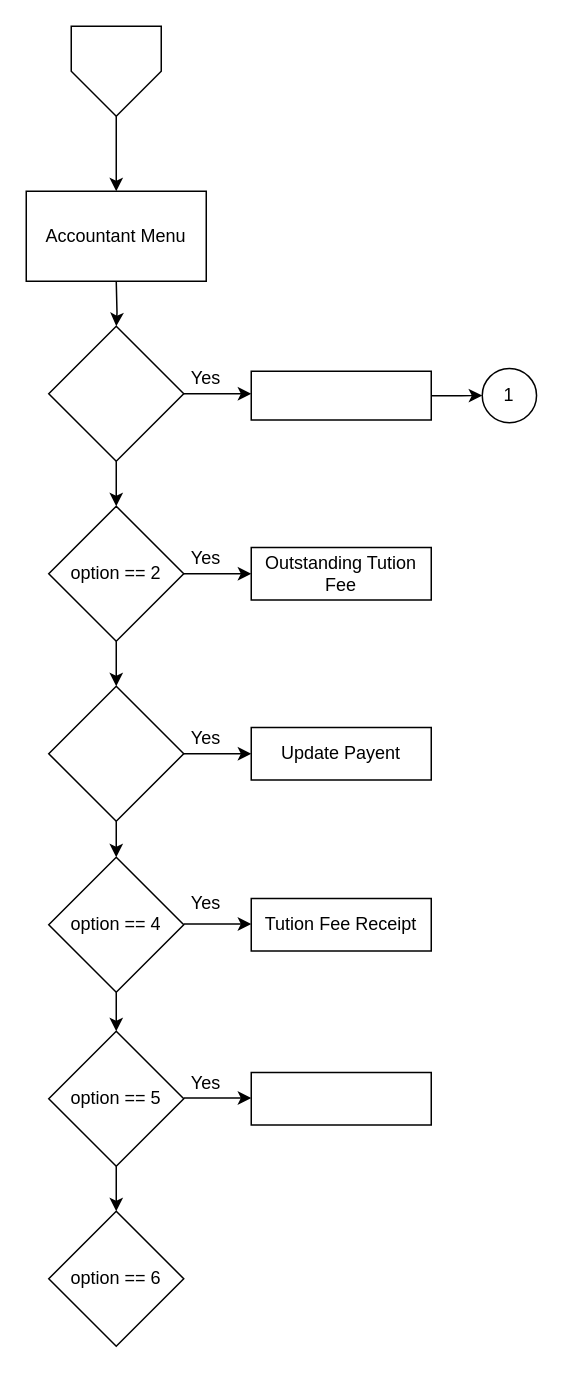
Some shapes in this 564 by 1373 pixel diagram are drawn without their labels. The shapes that lost their labels are listed below. From the top down, each one's centre as x and y in pixels, then its label:
At pixel 115 70: "E1".
At pixel 115 393: "option == 1".
At pixel 340 395: "Tution Fee Record".
At pixel 115 753: "option == 3".
At pixel 340 1098: "Financial Summary".
